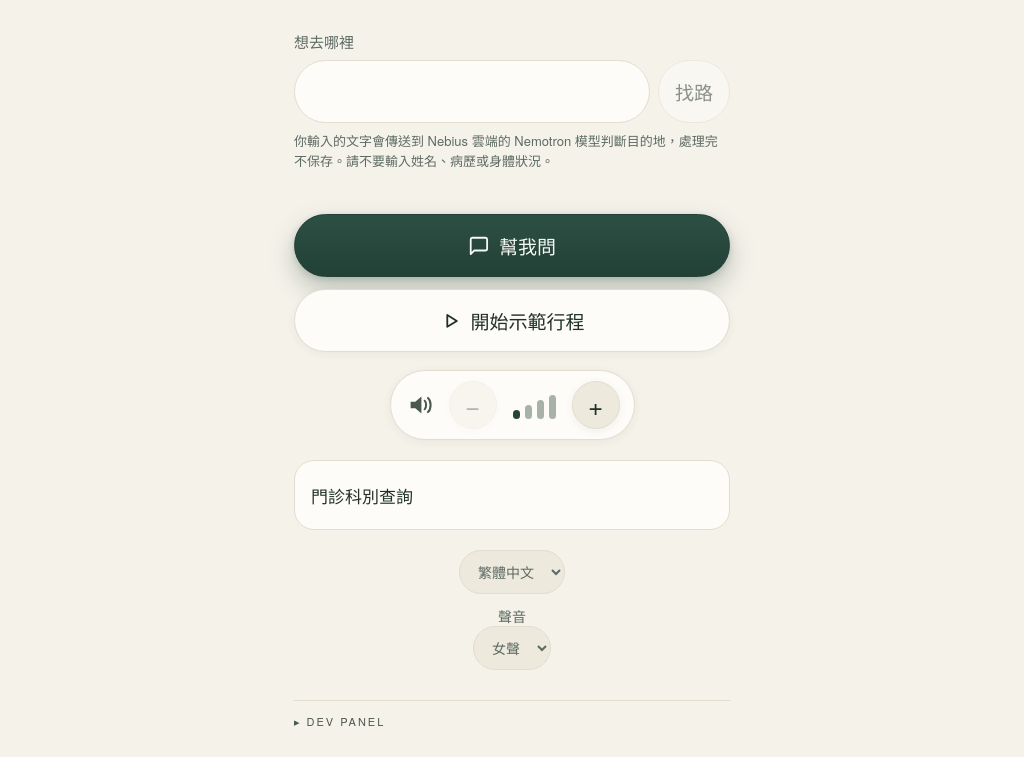
Scenario: switching language › says the same English sentence with an English device voice when the recording will not play
(page scrolled)
Select "English" in the dropdown named "Language / 語言" at (512, 572), box [459,550,565,594]
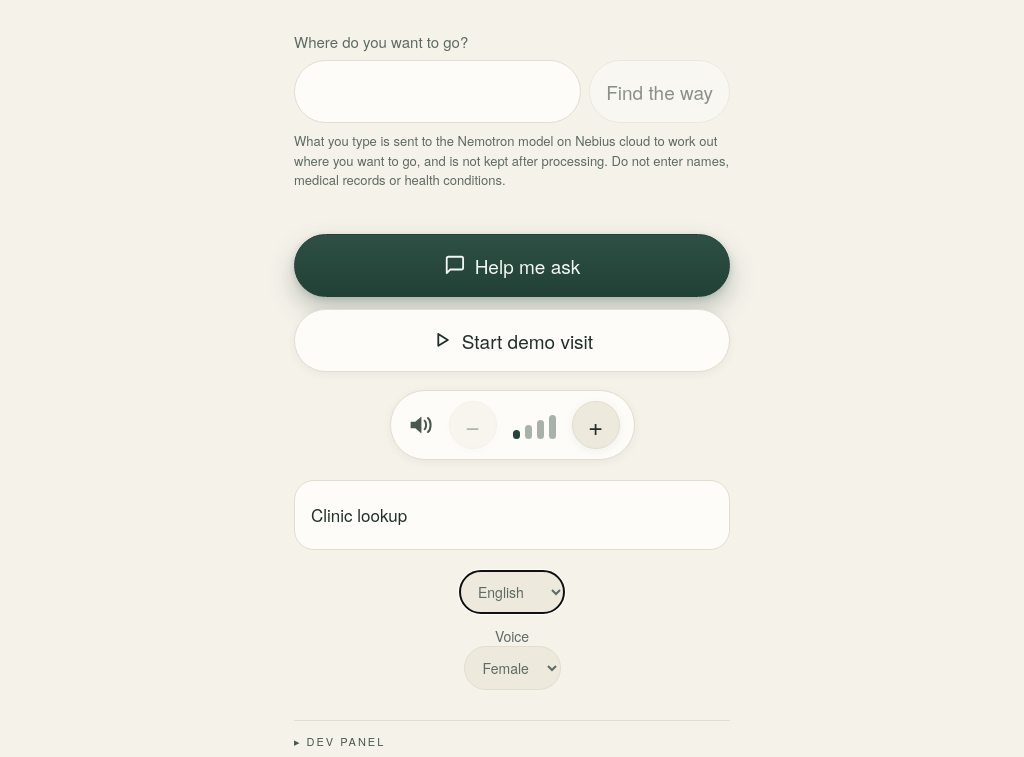
Click the button "Help me ask" at (512, 265), box [294,234,730,297]
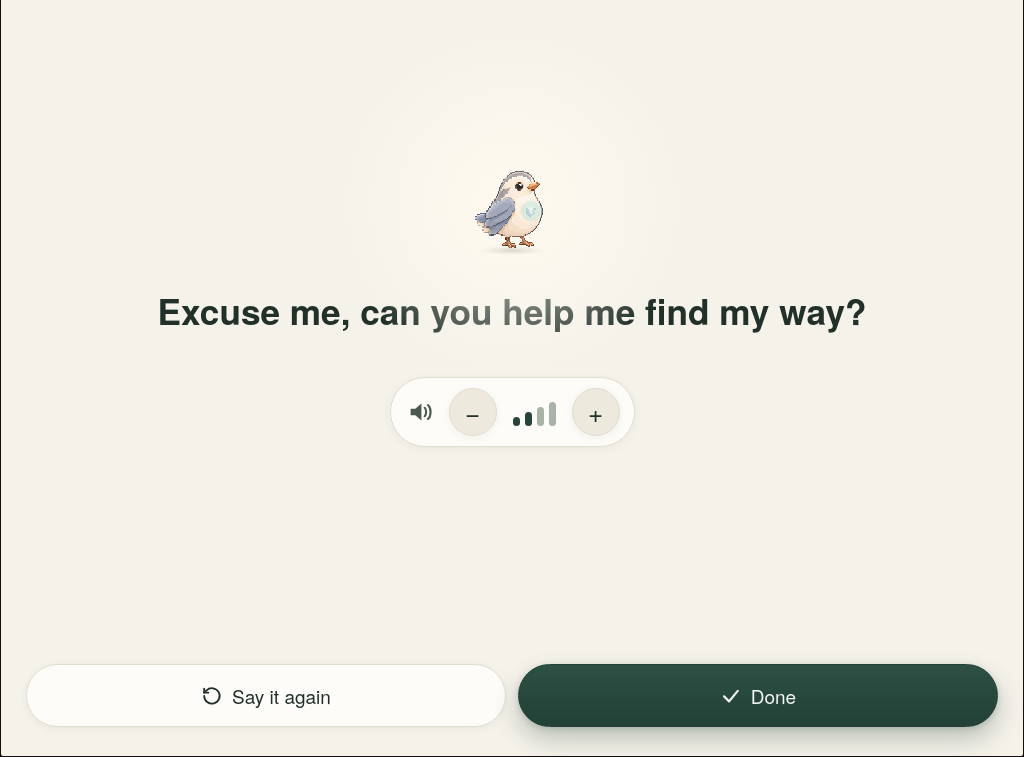
Now the text "Excuse me, can you help me find my way?" is shown, box [158,285,866,337]
